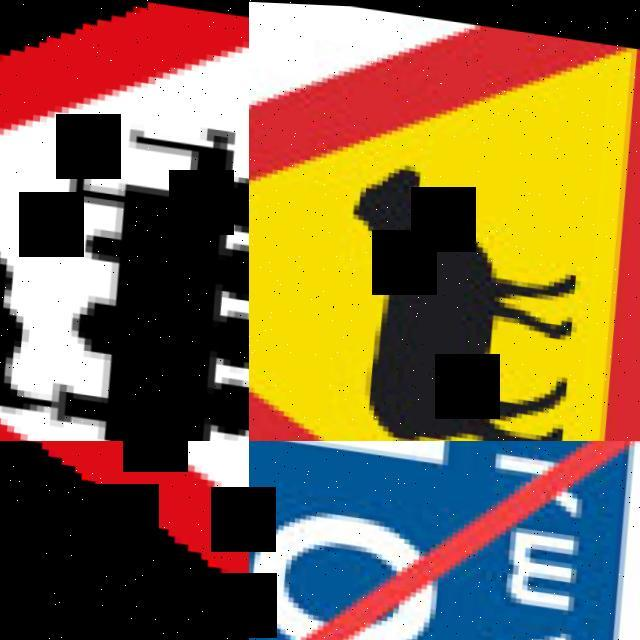103: (249, 441, 640, 640)
136: (249, 0, 640, 441)
Roadworks: (0, 441, 249, 640)
Unguarded level crossing ahead: (0, 0, 249, 441)
